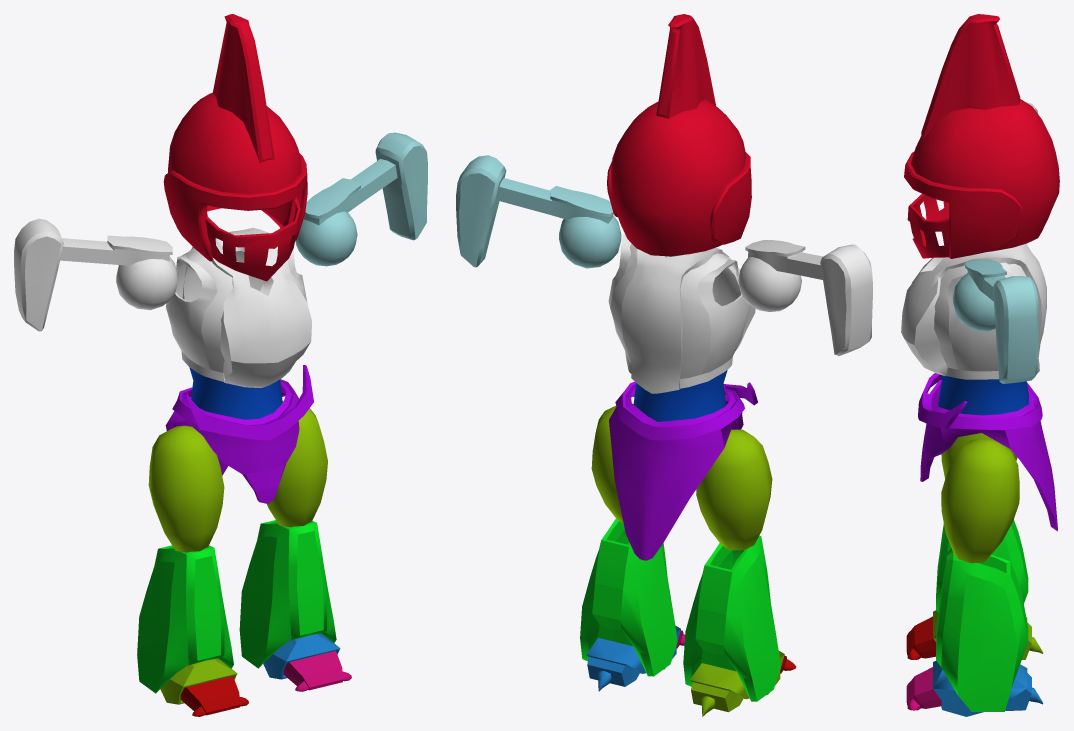
File: VIDA20.FBX
The picture shows the model from 3 angles, left to right: view 1: azimuth 30°, elevation 25°; view 2: azimuth 150°, elevation 25°; view 3: azimuth 270°, elevation 25°; orthographic projection.
Visible parts, largest first — view 1: CASCOI, polySurface6, TIBIA, TIBIA_DER, HOMBREO_DER, HOMBRO_IZQ, polySurface8, MUSLO_DER, MUSLO_IZQ, cintura:cintura, PUNTA_PIE_DER, PUNTAPIE2 (+2 smaller); view 2: CASCOI, polySurface6, polySurface8, TIBIA_DER, TIBIA, HOMBRO_IZQ, HOMBREO_DER, MUSLO_DER, cintura:cintura, PIE_DER, PIE, MUSLO_IZQ; view 3: CASCOI, TIBIA, polySurface6, MUSLO_IZQ, HOMBRO_IZQ, polySurface8, cintura:cintura, PIE, TIBIA_DER, PUNTAPIE2, PUNTA_PIE_DER, MUSLO_DER (+1 smaller).
Boxes of the visible parts, x1=… form: CASCOI: x1=163, y1=14, x2=307, y2=281; polySurface6: x1=165, y1=227, x2=312, y2=387; TIBIA: x1=239, y1=520, x2=336, y2=668; TIBIA_DER: x1=137, y1=545, x2=233, y2=693; HOMBREO_DER: x1=14, y1=218, x2=178, y2=331; HOMBRO_IZQ: x1=295, y1=132, x2=427, y2=266; polySurface8: x1=165, y1=365, x2=313, y2=503; MUSLO_DER: x1=148, y1=425, x2=224, y2=552; MUSLO_IZQ: x1=267, y1=400, x2=327, y2=527; cintura:cintura: x1=189, y1=367, x2=282, y2=419; PUNTA_PIE_DER: x1=180, y1=676, x2=248, y2=716; PUNTAPIE2: x1=283, y1=651, x2=351, y2=691; CASCOI: x1=607, y1=14, x2=751, y2=256; polySurface6: x1=608, y1=234, x2=755, y2=393; polySurface8: x1=609, y1=381, x2=757, y2=560; TIBIA_DER: x1=683, y1=535, x2=780, y2=701; TIBIA: x1=580, y1=518, x2=677, y2=676; HOMBRO_IZQ: x1=456, y1=155, x2=621, y2=268; HOMBREO_DER: x1=738, y1=240, x2=872, y2=355; MUSLO_DER: x1=696, y1=429, x2=772, y2=550; cintura:cintura: x1=633, y1=370, x2=727, y2=421; PIE_DER: x1=690, y1=651, x2=784, y2=716; PIE: x1=586, y1=625, x2=680, y2=691; MUSLO_IZQ: x1=591, y1=404, x2=633, y2=523; CASCOI: x1=904, y1=14, x2=1059, y2=258; TIBIA: x1=936, y1=548, x2=1028, y2=711; polySurface6: x1=901, y1=244, x2=1046, y2=379; MUSLO_IZQ: x1=941, y1=438, x2=1019, y2=563; HOMBRO_IZQ: x1=952, y1=259, x2=1038, y2=383; polySurface8: x1=918, y1=373, x2=1057, y2=531; cintura:cintura: x1=938, y1=375, x2=1029, y2=415; PIE: x1=933, y1=660, x2=1043, y2=716; TIBIA_DER: x1=936, y1=519, x2=1028, y2=612; PUNTAPIE2: x1=906, y1=667, x2=941, y2=710; PUNTA_PIE_DER: x1=906, y1=616, x2=935, y2=659; MUSLO_DER: x1=941, y1=433, x2=1017, y2=478.
Size of the model in its own units: 73.92 by 114 by 24.85.
